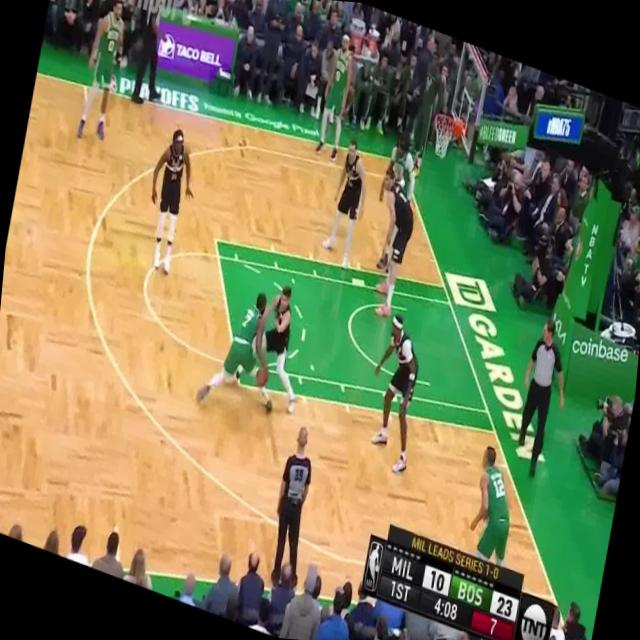ball-handler: (194, 275, 282, 423)
